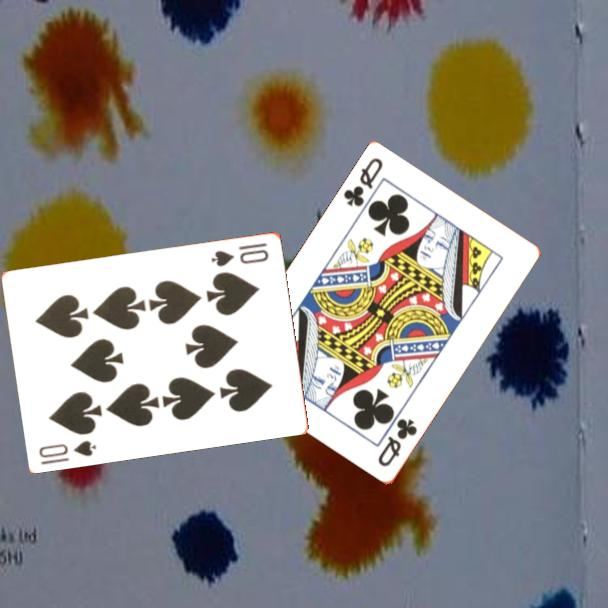c12: (374, 415, 420, 470), (340, 155, 386, 210)
s10: (36, 436, 99, 467), (208, 239, 272, 269)
